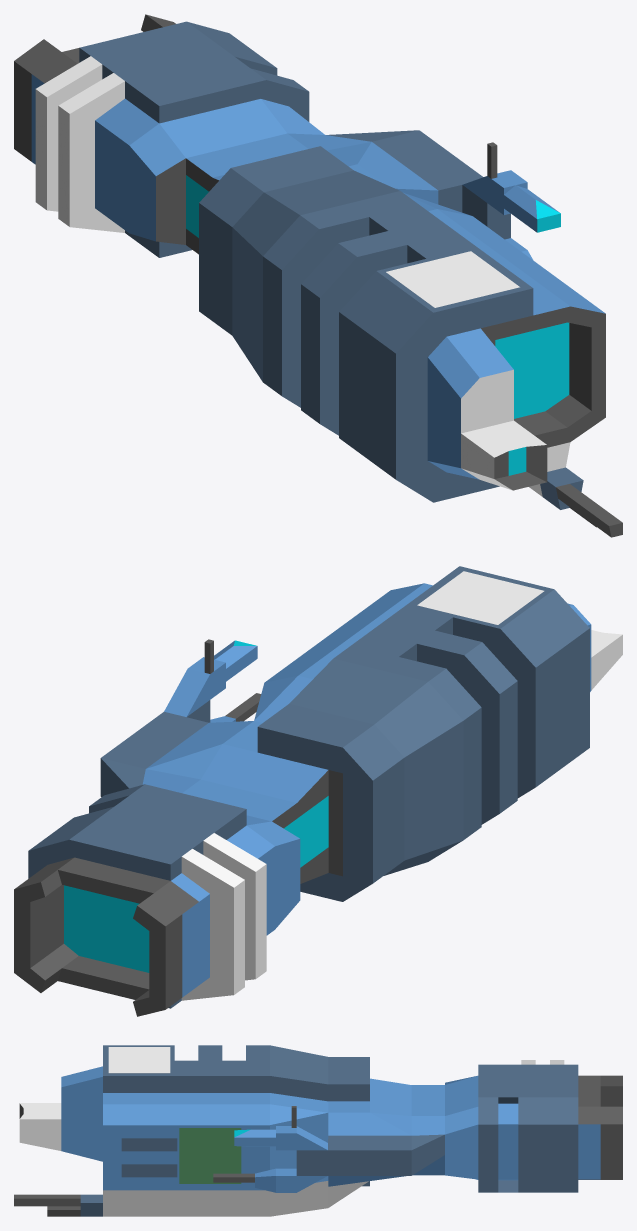
File: block_foldship.fbx
The picture shows the model from 3 angles, top to bottom: view 1: azimuth 30°, elevation 25°; view 2: azimuth 150°, elevation 25°; view 3: azimuth 270°, elevation 25°; orthographic projection. The views are drawn at different scales.
Visible parts, largest first — view 1: block_foldship, banners; view 2: block_foldship, banners; view 3: block_foldship, banners.
Part boxes in pixels (left/top/right/bottom): block_foldship: left=14, top=14, right=622, bottom=537; banners: left=386, top=251, right=519, bottom=307; block_foldship: left=14, top=566, right=622, bottom=1016; banners: left=417, top=571, right=544, bottom=624; block_foldship: left=14, top=1045, right=622, bottom=1216; banners: left=108, top=1047, right=241, bottom=1183.
Bounding box in the file's own units: 158 × 121 × 493.
2 materials, 1 textured.
